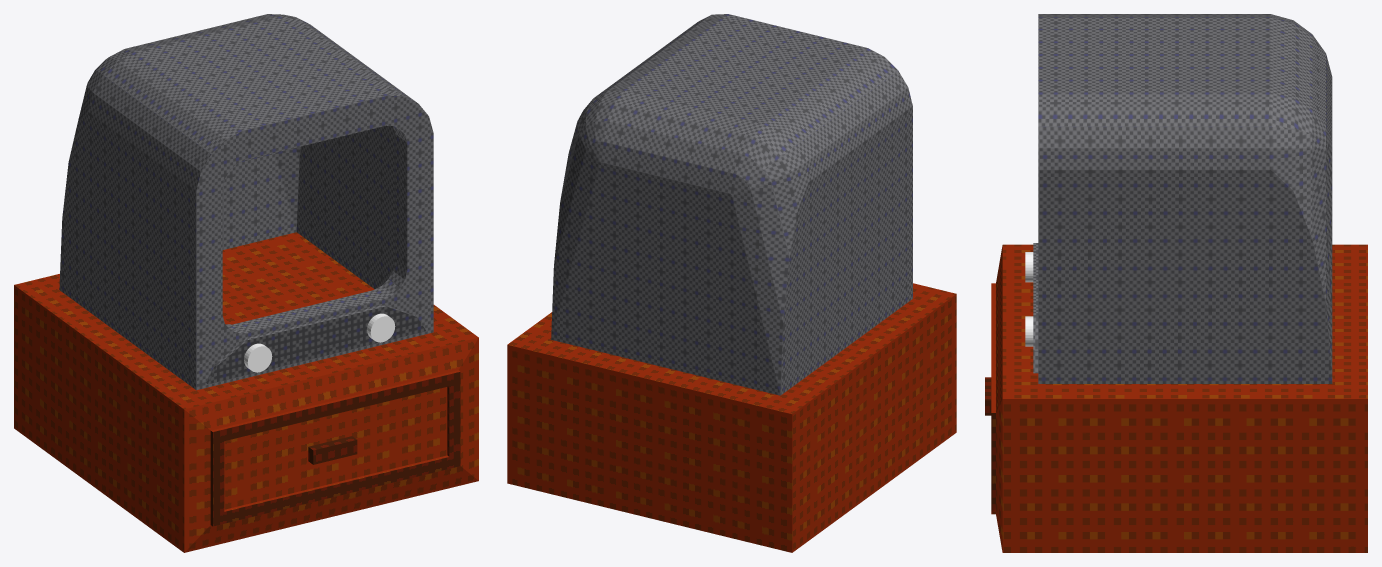
The picture shows the model from 3 angles, left to right: view 1: azimuth 30°, elevation 25°; view 2: azimuth 150°, elevation 25°; view 3: azimuth 270°, elevation 25°; orthographic projection. The views are drawn at different scales.
Visible parts, largest first — view 1: tv, armario, Cylinder.001, Cylinder; view 2: tv, armario; view 3: tv, armario.
Part boxes in pixels (x1=…): tv: x1=59, y1=14, x2=433, y2=390; armario: x1=14, y1=232, x2=478, y2=552; Cylinder.001: x1=367, y1=313, x2=395, y2=342; Cylinder: x1=244, y1=343, x2=272, y2=372; tv: x1=551, y1=14, x2=912, y2=395; armario: x1=507, y1=283, x2=956, y2=552; tv: x1=1033, y1=14, x2=1332, y2=383; armario: x1=985, y1=244, x2=1367, y2=552.
Size of the model in its own units: 2.31 by 2.94 by 2.42.
Materials: 3 (2 with a texture image).
